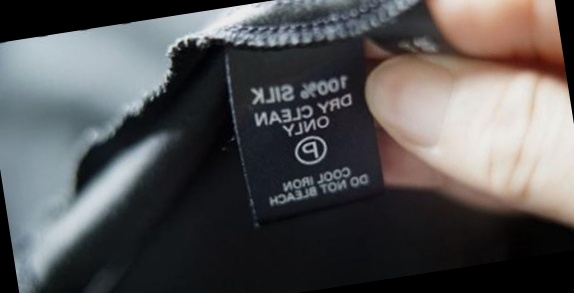dry_clean_any_solvent_except_trichloroethylene: (291, 132, 329, 167)
